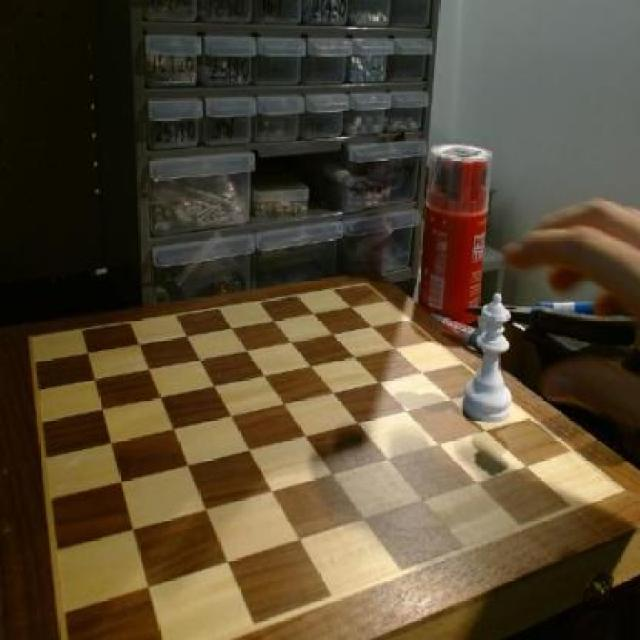white-pawn: (460, 289, 518, 428)
